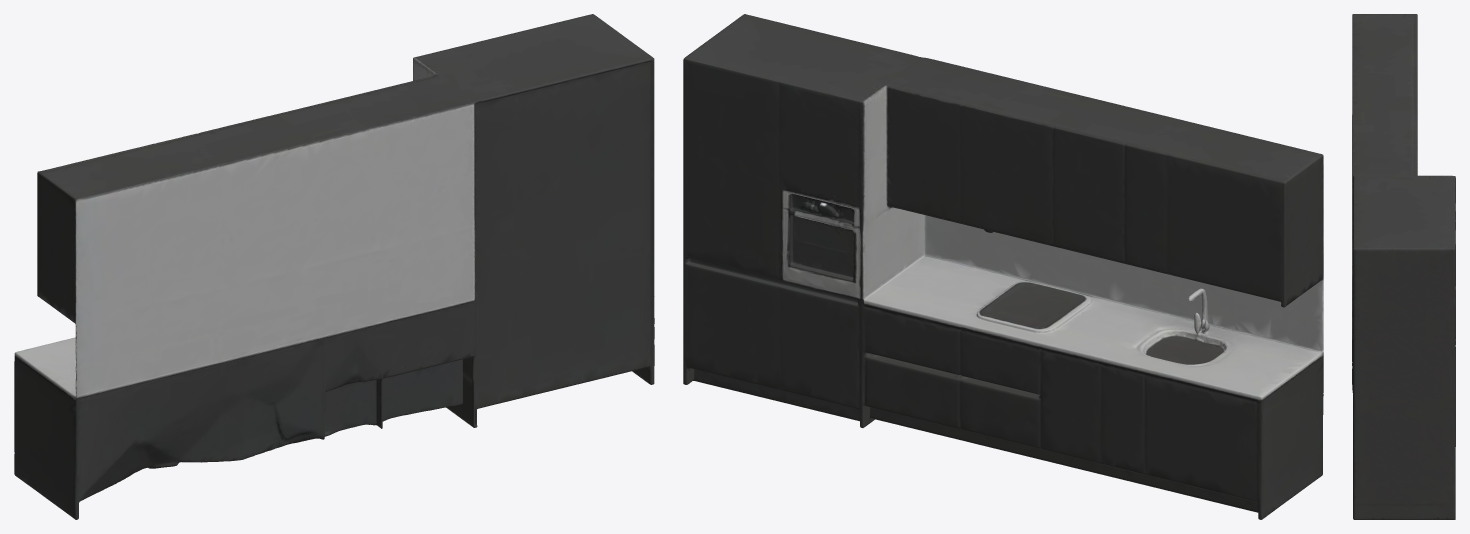
Rendered from facades.glb.
3 renders of one model, left to right at view 1: azimuth 30°, elevation 25°; view 2: azimuth 150°, elevation 25°; view 3: azimuth 270°, elevation 25°, orthographic. The views are drawn at different scales.
Parts seen in each view (by area): view 1: tripo_node_b66dc2cd-a974-4420-b997-9a1e409c4610; view 2: tripo_node_b66dc2cd-a974-4420-b997-9a1e409c4610; view 3: tripo_node_b66dc2cd-a974-4420-b997-9a1e409c4610.
Part boxes in pixels (x1,y1,x2,y2): tripo_node_b66dc2cd-a974-4420-b997-9a1e409c4610: (14,14,654,519); tripo_node_b66dc2cd-a974-4420-b997-9a1e409c4610: (683,14,1323,519); tripo_node_b66dc2cd-a974-4420-b997-9a1e409c4610: (1352,14,1455,519).
Bounding box in the file's own units: 1 × 0.5382 × 0.1867.
Materials: 1 (1 with a texture image).
